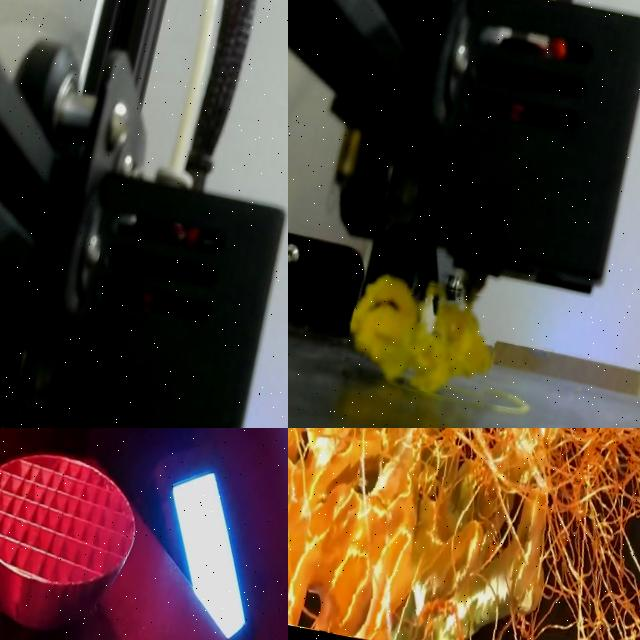spaghetti: (288, 428, 640, 640), (350, 276, 491, 393)
